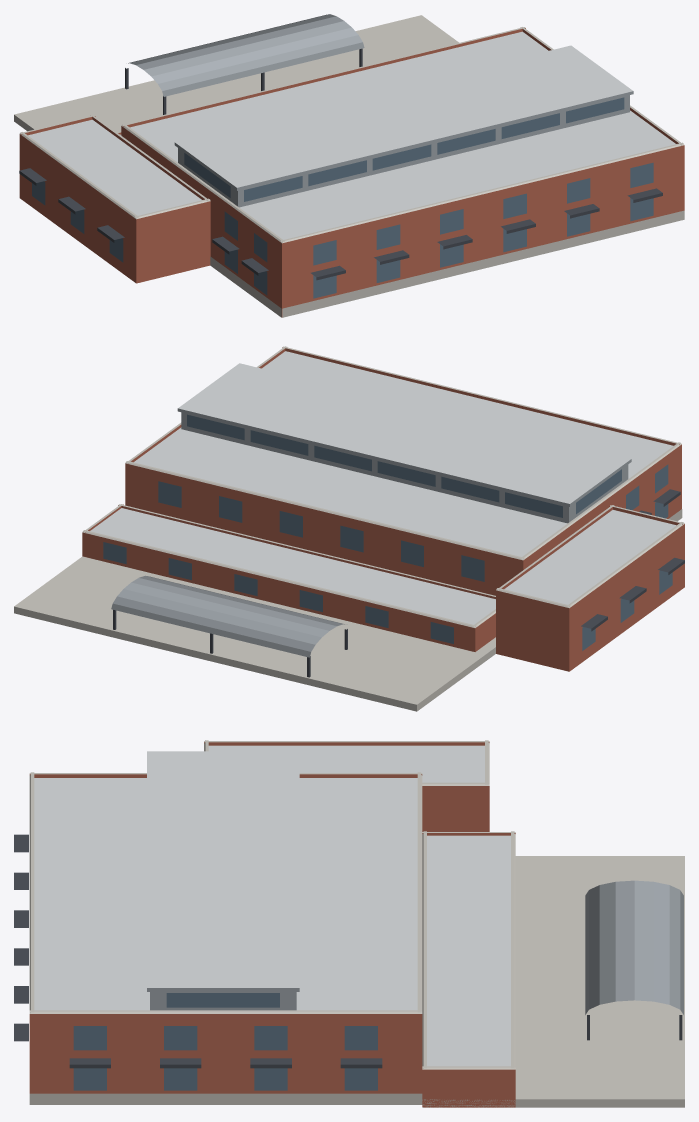
Rendered from clt-cne-701-keswick.glb.
The picture shows the model from 3 angles, top to bottom: view 1: azimuth 30°, elevation 25°; view 2: azimuth 150°, elevation 25°; view 3: azimuth 270°, elevation 25°; orthographic projection. The views are drawn at different scales.
Visible parts, largest first — view 1: 701 Keswick Avenue, Camp North End; view 2: 701 Keswick Avenue, Camp North End; view 3: 701 Keswick Avenue, Camp North End.
Part boxes in pixels (box(x1,y1,x2,y2)): 701 Keswick Avenue, Camp North End: box(14, 14, 684, 317); 701 Keswick Avenue, Camp North End: box(14, 346, 684, 711); 701 Keswick Avenue, Camp North End: box(14, 740, 684, 1107).
Size of the model in its own units: 67.8 by 12.2 by 64.6.
